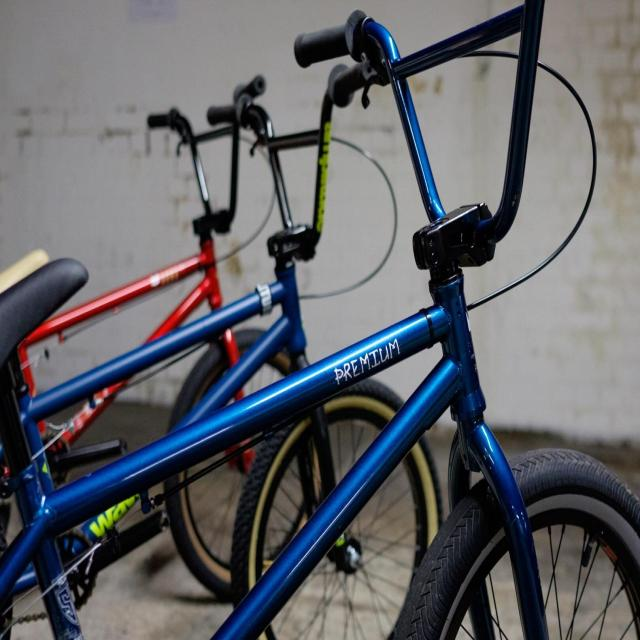bmx-bike: (0, 0, 640, 640), (0, 58, 444, 640), (0, 74, 322, 597)
